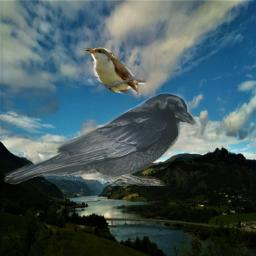Crow: (3, 92, 196, 186)
Cuckoo: (83, 43, 146, 95)
